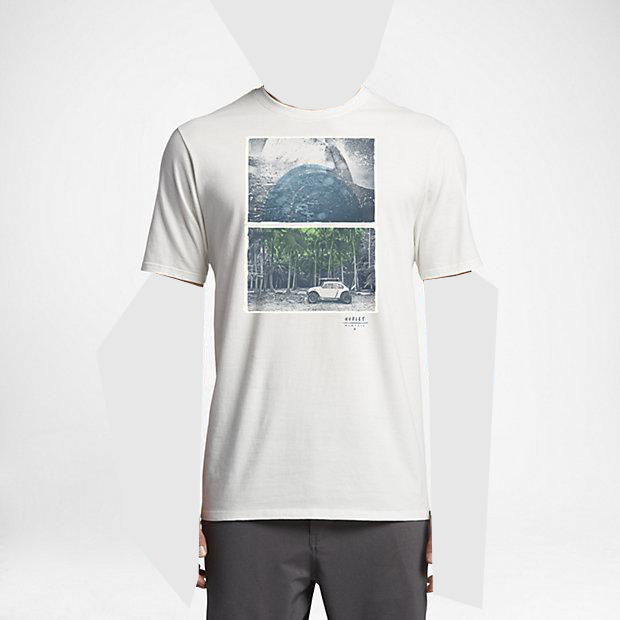teeshirt: (138, 82, 482, 525)
